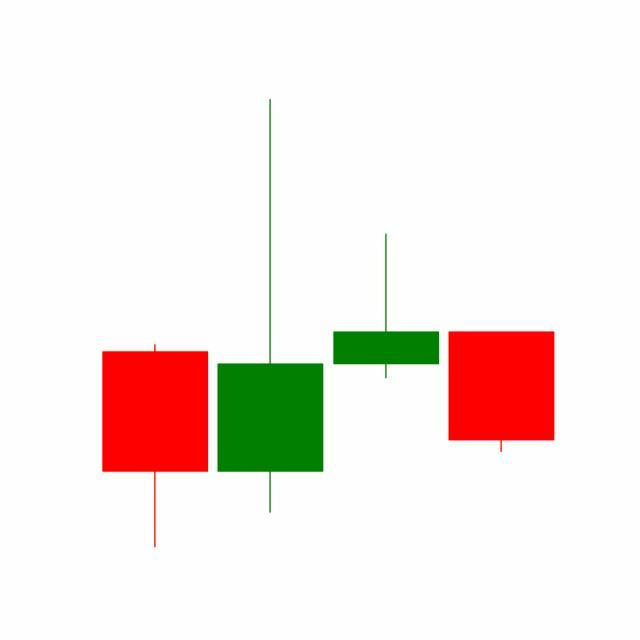Marubozu: (444, 331, 560, 454)
